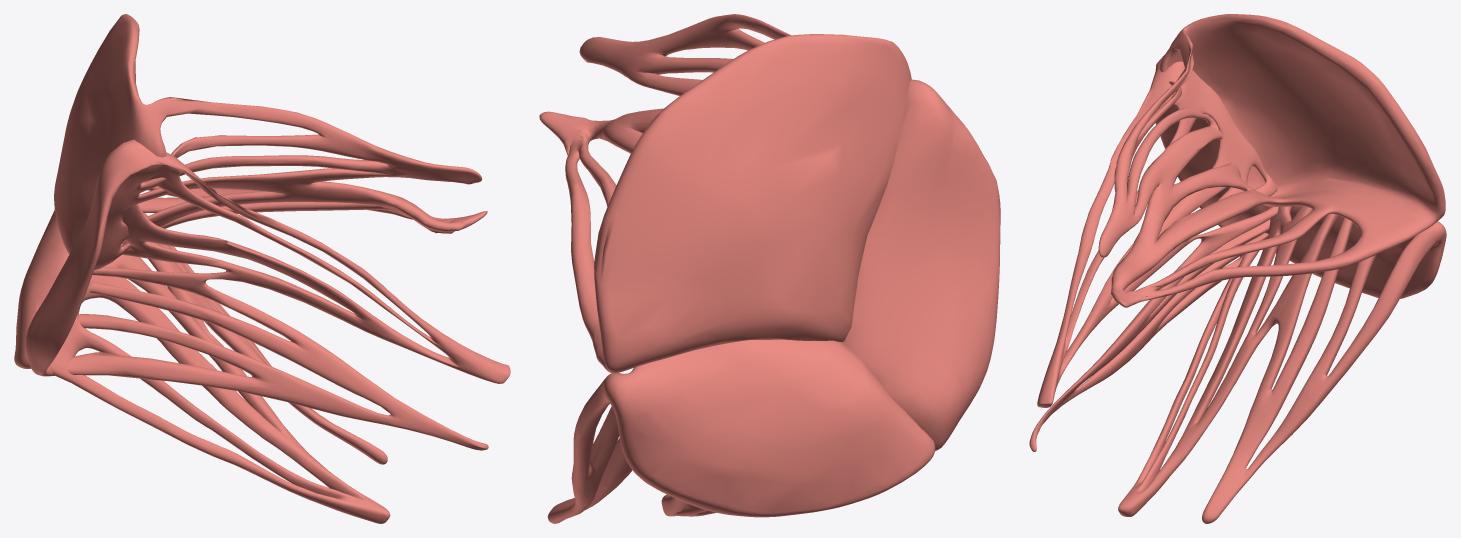
File: tricuspid.gltf
3 views of the same model, side by side, from view 1: azimuth 30°, elevation 25°; view 2: azimuth 150°, elevation 25°; view 3: azimuth 270°, elevation 25° (orthographic). The views are drawn at different scales.
Parts seen in each view (by area): view 1: leaftlet2.014, leafletreightv.007, leaftlet2.015; view 2: leafletreightv.007, leaftlet2.015, leaftlet2.014; view 3: leafletreightv.007, leaftlet2.015, leaftlet2.014.
Part boxes in pixels (x1,y1,x2,y2): leaftlet2.014: (25, 139, 510, 450); leafletreightv.007: (54, 14, 487, 270); leaftlet2.015: (14, 210, 390, 523); leafletreightv.007: (539, 14, 911, 373); leaftlet2.015: (547, 339, 935, 523); leaftlet2.014: (842, 79, 1000, 450); leafletreightv.007: (1098, 14, 1445, 307); leaftlet2.015: (1118, 193, 1446, 523); leaftlet2.014: (1029, 55, 1278, 451).
Bounding box in the file's own units: 1.3 × 1.49 × 1.33.
